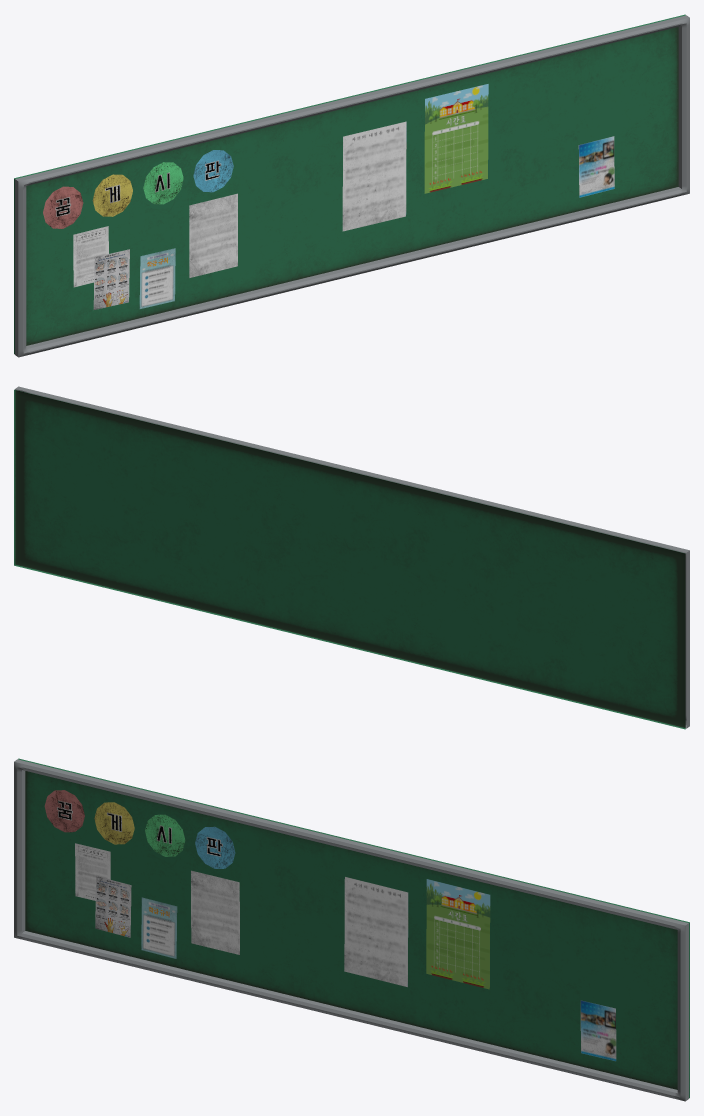
File: board_classroom_texturefixed.fbx
The picture shows the model from 3 angles, top to bottom: view 1: azimuth 30°, elevation 25°; view 2: azimuth 150°, elevation 25°; view 3: azimuth 330°, elevation 25°; orthographic projection.
Parts seen in each view (by area): view 1: Board_classroom_GEO, classroom_posters_GEO; view 2: Board_classroom_GEO; view 3: Board_classroom_GEO, classroom_posters_GEO.
Boxes of the visible parts, x1,y1,x2,y2 form: Board_classroom_GEO: (14, 14, 689, 357); classroom_posters_GEO: (43, 84, 614, 309); Board_classroom_GEO: (14, 386, 689, 729); Board_classroom_GEO: (14, 758, 689, 1101); classroom_posters_GEO: (44, 790, 616, 1061).
Size of the model in its own units: 89.78 by 22.48 by 1.29.
2 materials, 2 textured.
